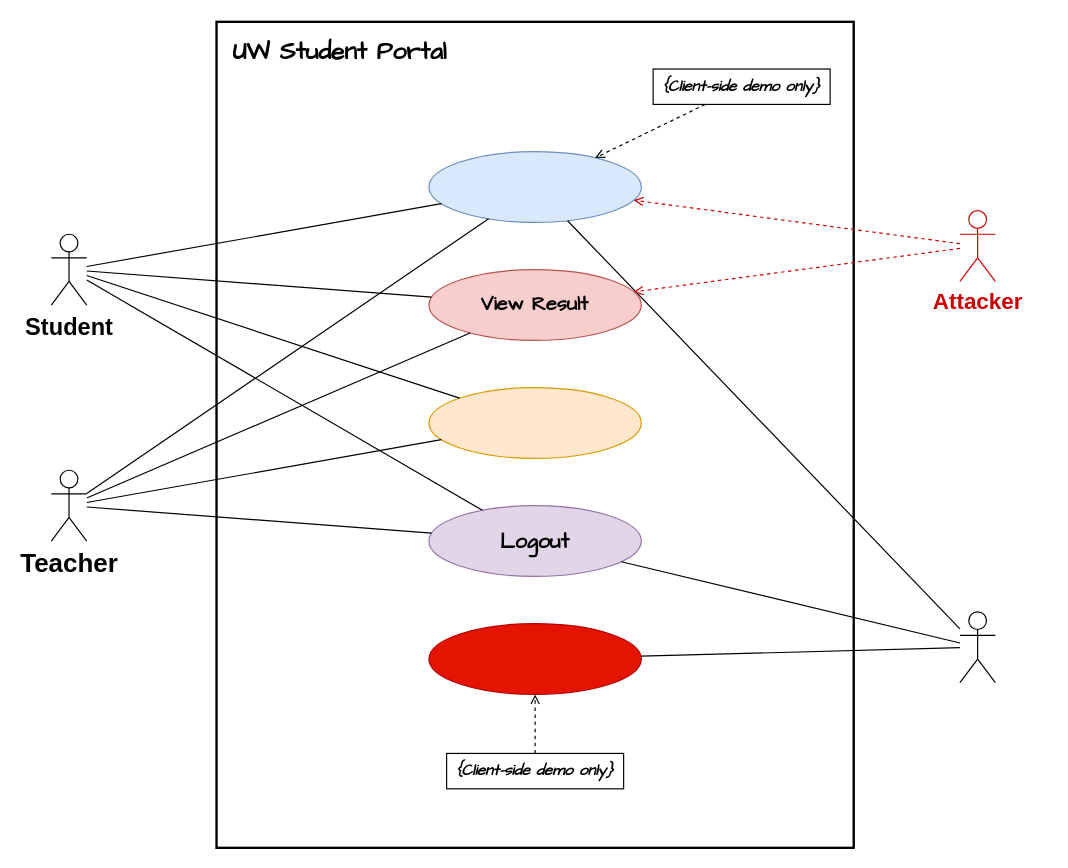
This 1068x868 diagram has some shape labels left out. Here are the shapes that lost their labels. From the top down, the centre of each, then its label:
the point at 534,186: Login
the point at 534,422: Search Courses
the point at 534,658: View Admin Panel
the point at 977,647: Administrator
